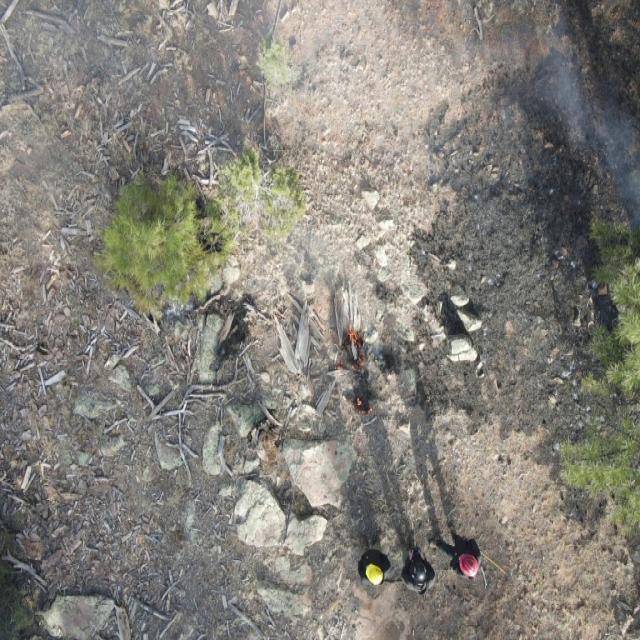fire: (332, 356, 369, 376), (349, 395, 377, 417), (345, 325, 365, 347)
smoke: (1, 0, 639, 211), (165, 209, 422, 402)
